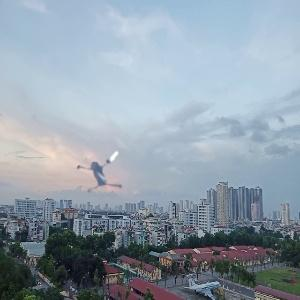drone: (71, 137, 141, 207)
